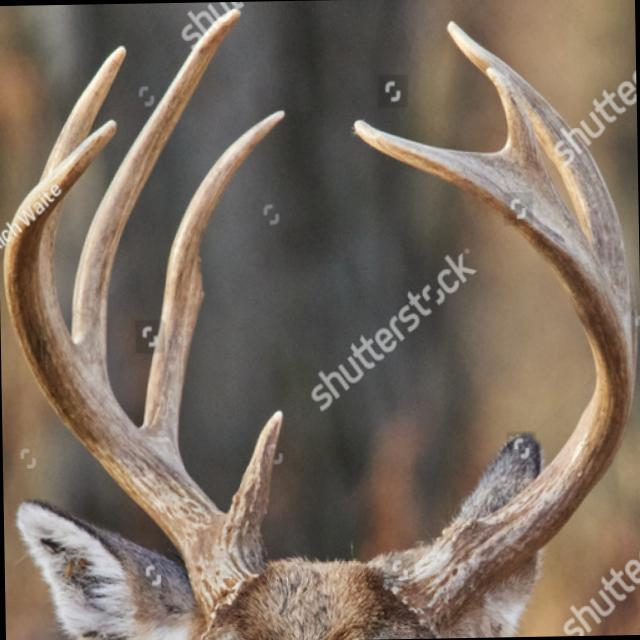E1: (484, 65, 546, 171)
L-F: (354, 119, 634, 638)
R-F: (3, 118, 271, 632)
R-G1: (226, 411, 283, 535)
R-G2: (139, 109, 285, 459)
R-G3: (72, 8, 243, 386)
